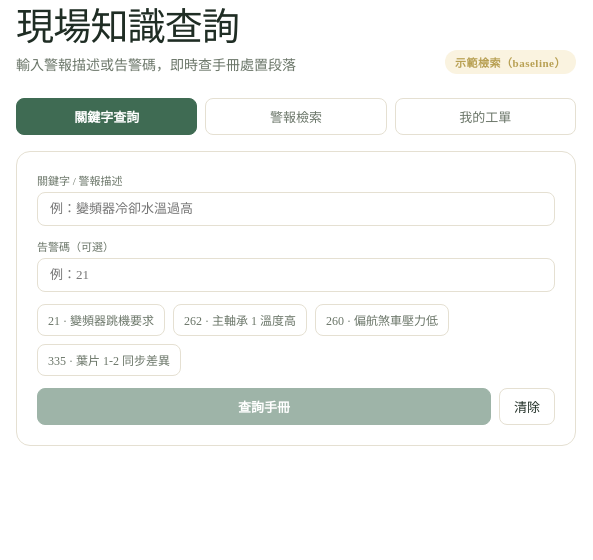
Test case: FieldPage 現場知識查詢頁 › 切換到警報檢索模式渲染 alert 表單（機組代號出現、關鍵字消失）
Click the button "警報檢索" at (296, 116), box [205, 98, 387, 135]
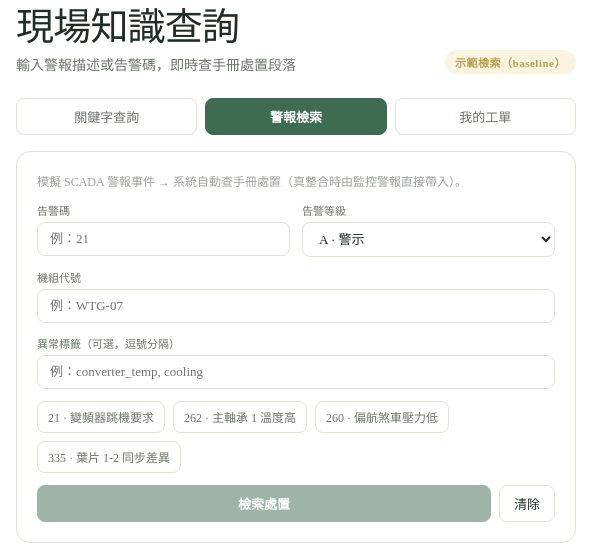
Now the field labelled "機組代號" is shown, box [37, 289, 555, 323]
Now the dropdown labelled "告警等級" is shown, box [302, 222, 555, 257]
